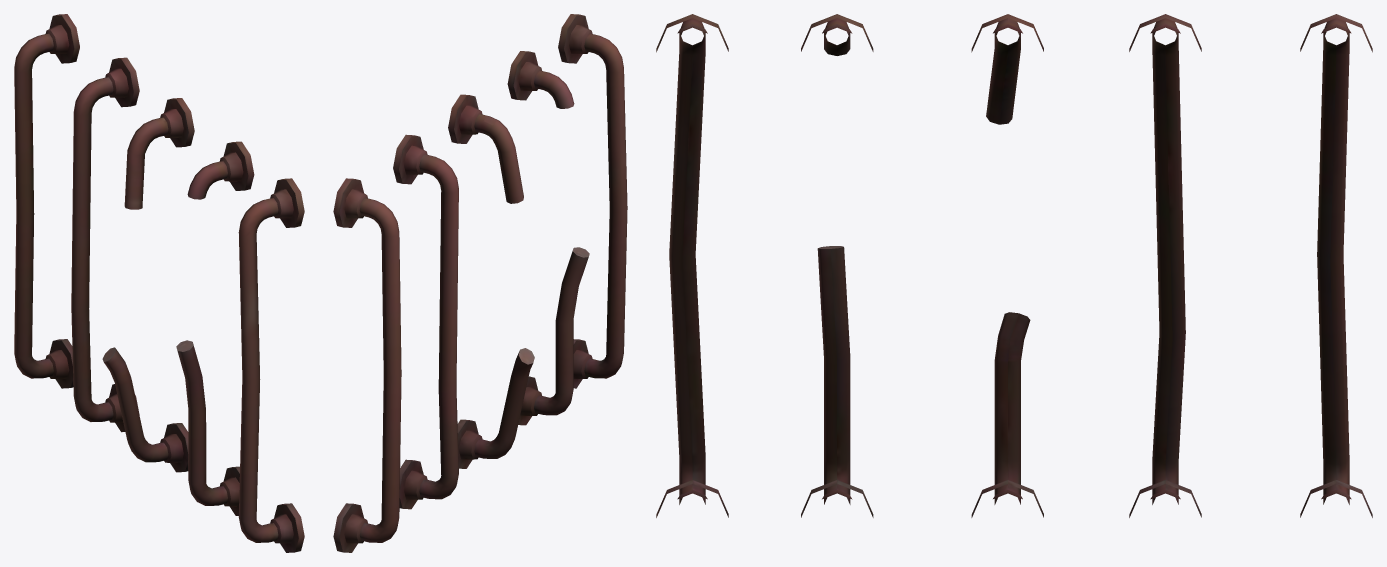
The picture shows the model from 3 angles, left to right: view 1: azimuth 30°, elevation 25°; view 2: azimuth 150°, elevation 25°; view 3: azimuth 270°, elevation 25°; orthographic projection. The views are drawn at different scales.
Parts seen in each view (by area): view 1: body0_model0_lod0_mesh0; view 2: body0_model0_lod0_mesh0; view 3: body0_model0_lod0_mesh0.
Part boxes in pixels (x1=…): body0_model0_lod0_mesh0: x1=14, y1=14, x2=304, y2=552; body0_model0_lod0_mesh0: x1=333, y1=14, x2=627, y2=552; body0_model0_lod0_mesh0: x1=656, y1=14, x2=1372, y2=517.
Bounding box in the file's own units: 38.09 × 180 × 218.
1 material, 1 textured.
